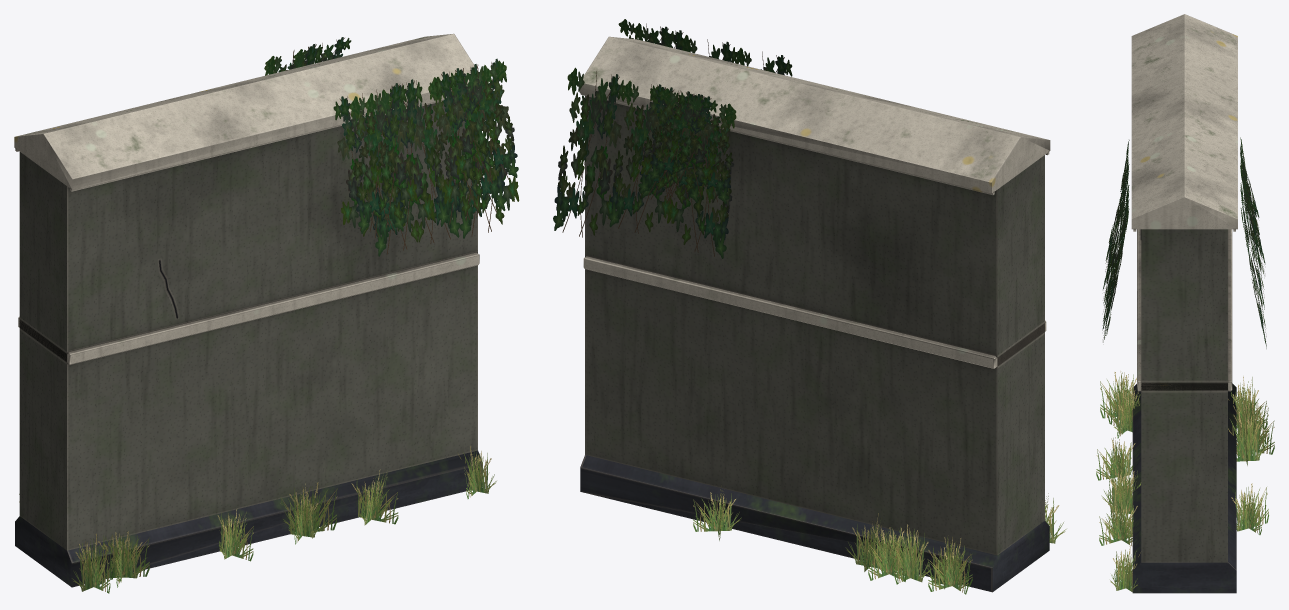
File: StoneWall8.fbx
3 renders of one model, left to right at view 1: azimuth 30°, elevation 25°; view 2: azimuth 150°, elevation 25°; view 3: azimuth 270°, elevation 25°, orthographic. The views are drawn at different scales.
Parts seen in each view (by area): view 1: StoneWall8_Main, StoneWall8_Leaves; view 2: StoneWall8_Main, StoneWall8_Leaves; view 3: StoneWall8_Main, StoneWall8_Leaves.
Part boxes in pixels (left/top/right/bottom): StoneWall8_Main: left=14, top=33, right=482, bottom=587; StoneWall8_Leaves: left=19, top=37, right=519, bottom=593; StoneWall8_Main: left=579, top=36, right=1050, bottom=592; StoneWall8_Leaves: left=553, top=19, right=1066, bottom=594; StoneWall8_Main: left=1131, top=14, right=1237, bottom=593; StoneWall8_Leaves: left=1096, top=137, right=1274, bottom=591.
Size of the model in its own units: 865 by 805 by 330.
